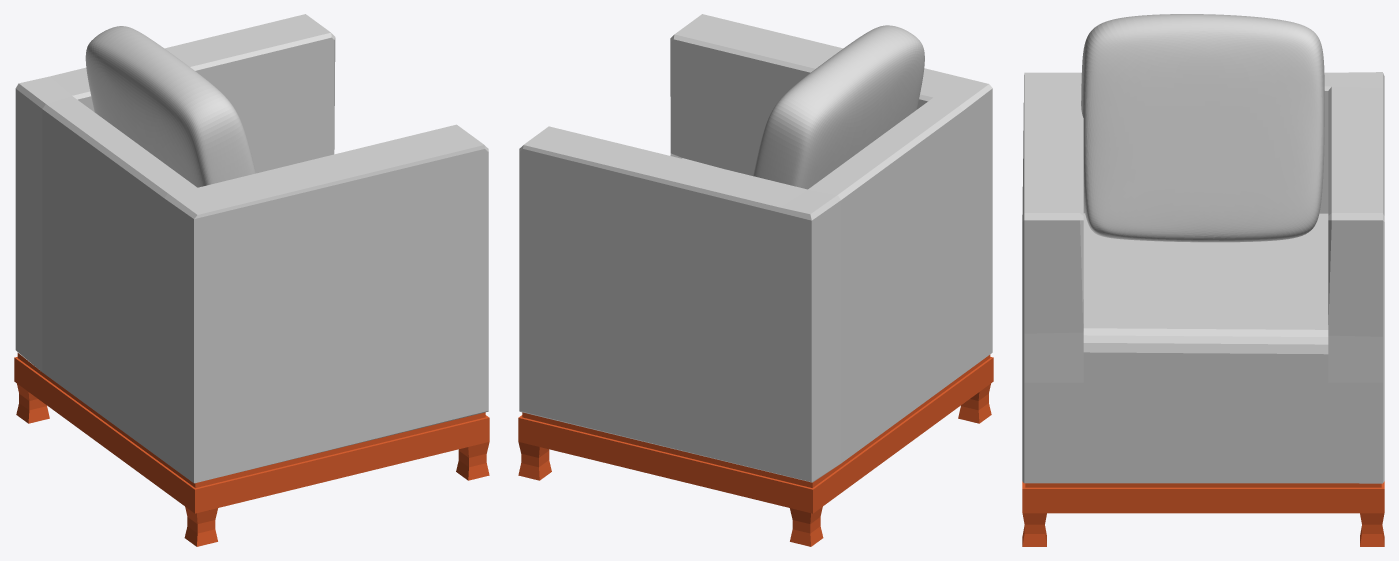
Rendered from poltrona.fbx.
The picture shows the model from 3 angles, left to right: view 1: azimuth 30°, elevation 25°; view 2: azimuth 150°, elevation 25°; view 3: azimuth 270°, elevation 25°; orthographic projection.
Parts seen in each view (by area): view 1: Cube; view 2: Cube; view 3: Cube.
Boxes of the visible parts, x1,y1,x2,y2 form: Cube: [14, 14, 489, 546]; Cube: [518, 14, 993, 546]; Cube: [1022, 14, 1384, 546].
Bounding box in the file's own units: 469 × 627 × 498.
